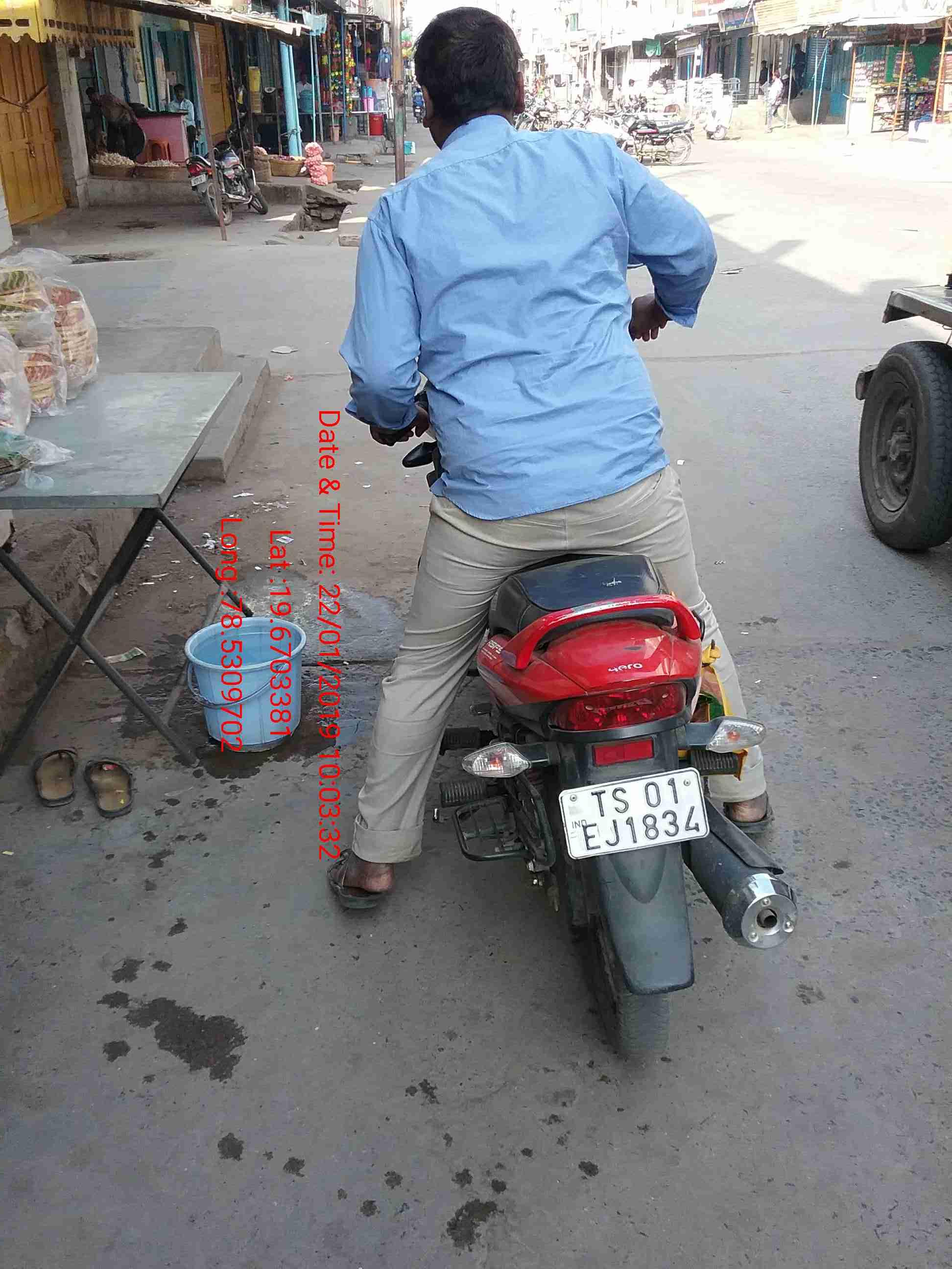plate: (552, 766, 713, 868)
